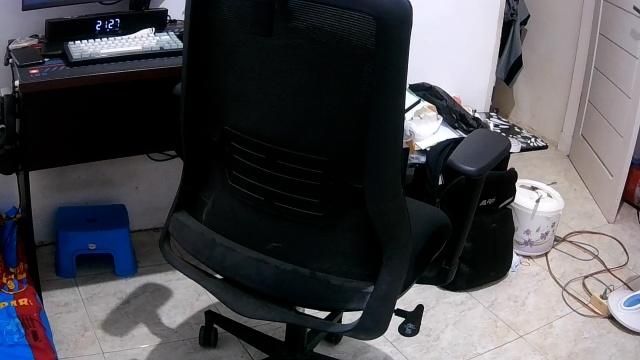Kursi: (157, 0, 510, 358)
